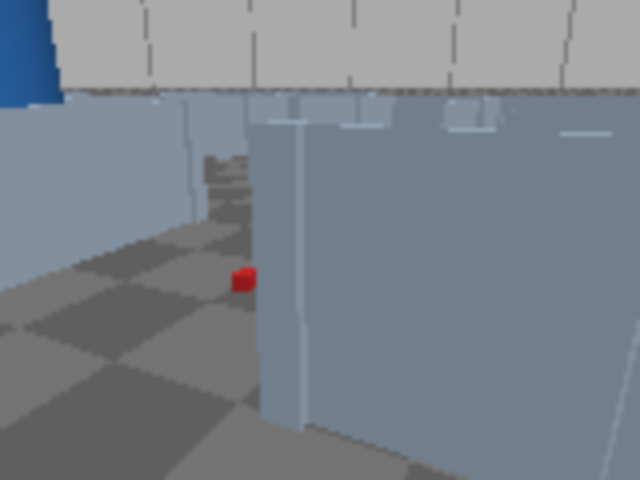person: (0, 0, 70, 259)
puck: (231, 268, 259, 293)
